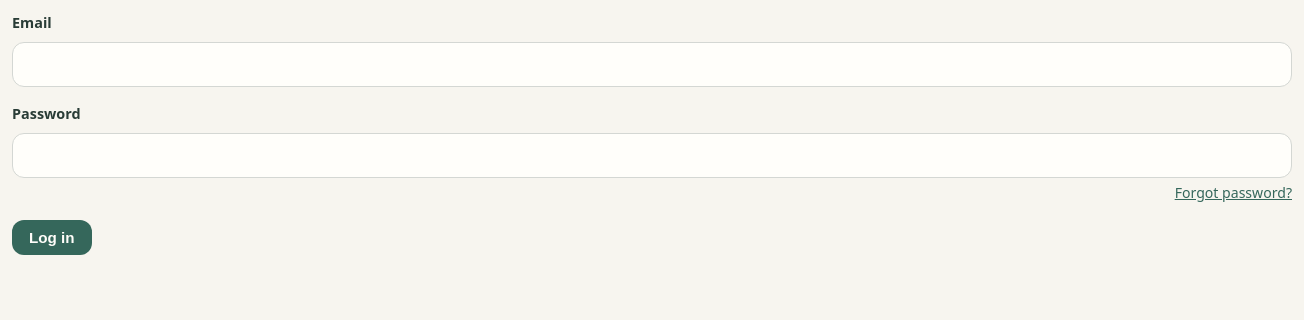
Test: login form + validation + query + HTTP client › shows validation errors without making a request
This screenshot has width=1304, height=320.
Click the button "Log in" at (52, 237), box 12,220 -> 92,254
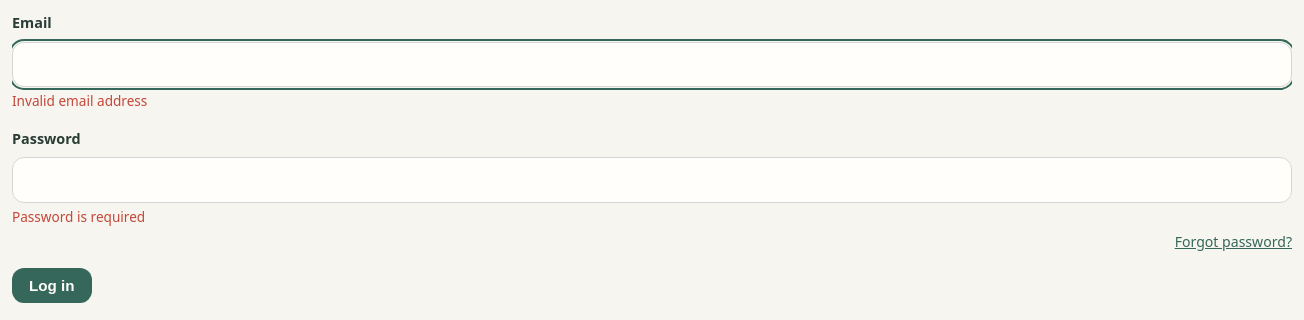
Result: the text "Invalid email address" is shown at 12,91 -> 147,110
Result: the text "Password is required" is shown at 12,207 -> 145,226
